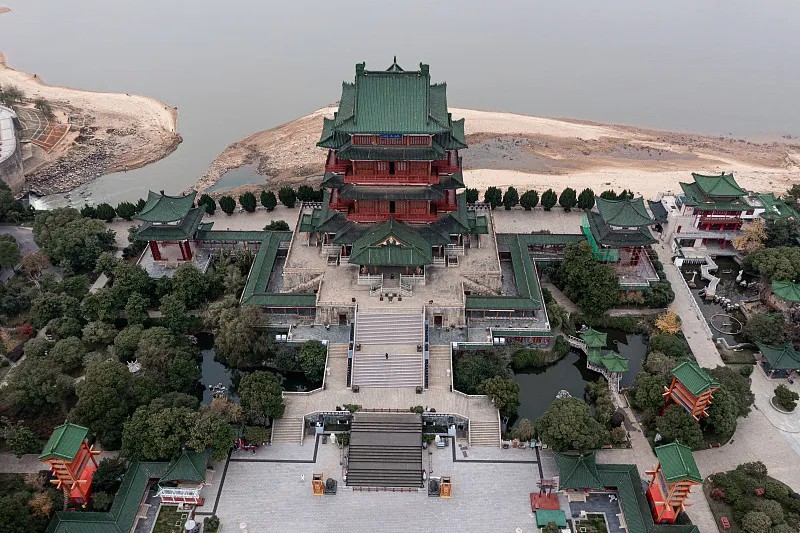Teng: (298, 55, 488, 281)
